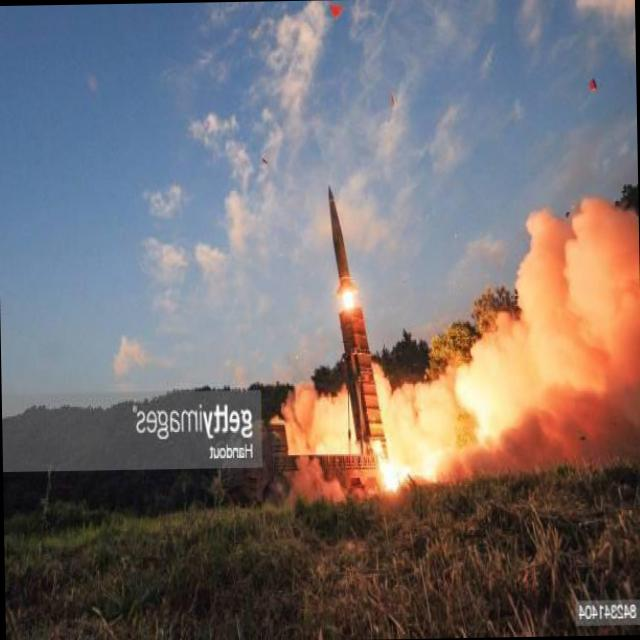rocket: (311, 190, 407, 474)
